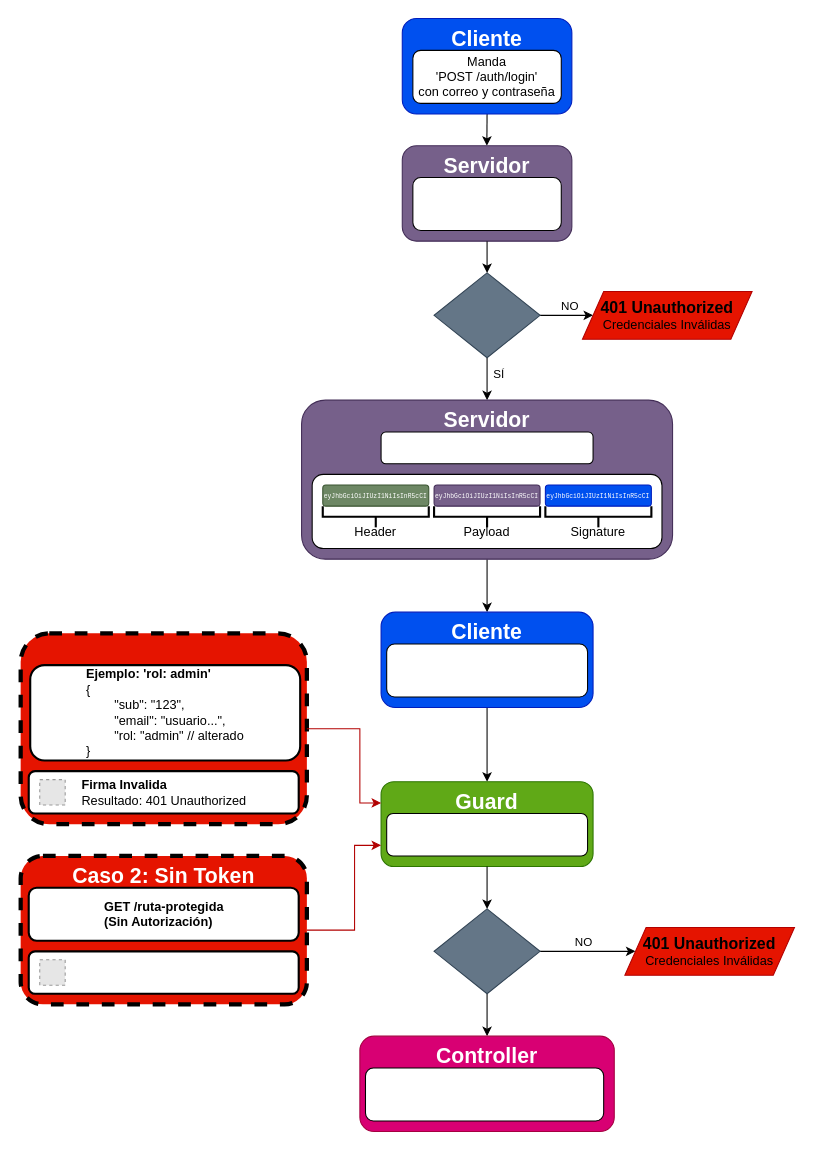
This 813x1150 diagram has some shape labels left out. Grey dashed boxes stand in for pictures. The box of each missing label's shape, as (x1, y1, x2, y2) in pixels:
401 Unauthorized Token no proporcionado: (27, 950, 299, 994)
Caso 1: Payload alterado: (18, 631, 308, 826)
Coincide la contraseña?: (433, 272, 540, 358)
Firma el token con ' JWT_SECRET ': (380, 431, 593, 464)
Guarda el token y manda 'Authorization: Bearer <token>': (386, 643, 588, 697)
Hace ' bcrypt compare ' contra el hash: (412, 176, 561, 231)
Lee el usuario con '@UsuarioActual()': (364, 1067, 604, 1121)
Verifica la firma y expiracion: (386, 812, 588, 856)
¿Token valido?: (433, 908, 540, 994)
